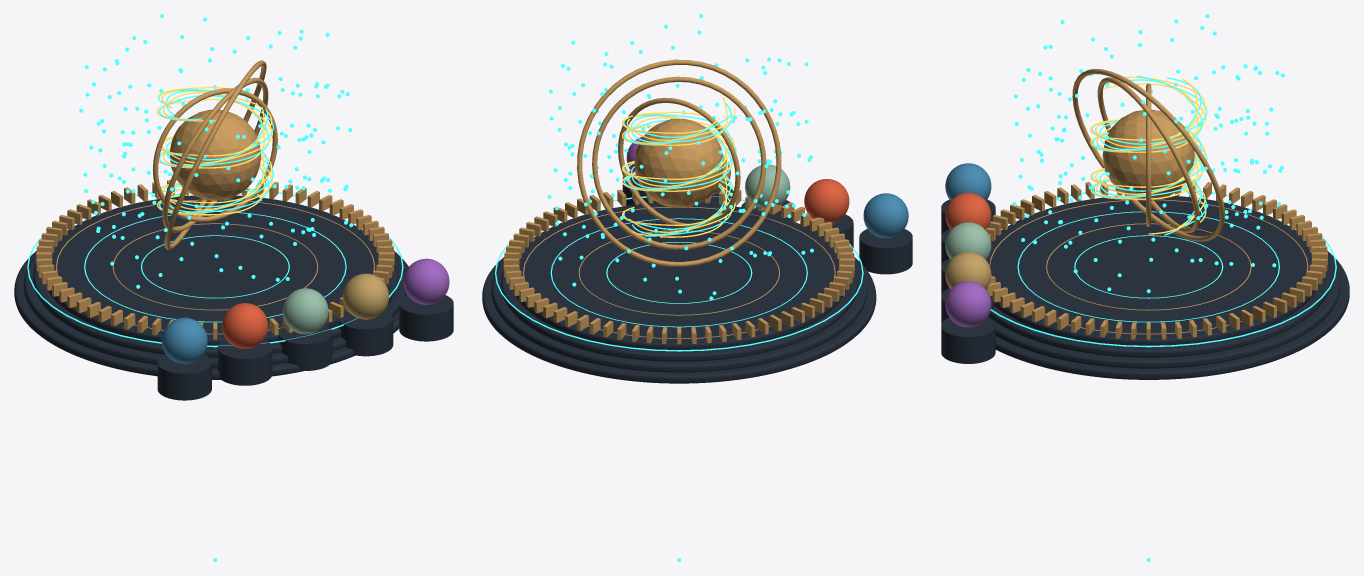
The model's file is asterion.draco.glb.
3 renders of one model, left to right at view 1: azimuth 30°, elevation 25°; view 2: azimuth 150°, elevation 25°; view 3: azimuth 270°, elevation 25°, orthographic. The views are drawn at different scales.
Visible parts, largest first — view 1: Concentric_foundation_3, Heart___faceted_iridium, Concentric_foundation_0, Concentric_foundation_1, Concentric_foundation_2, Specimen_plinth_0, Specimen_plinth_4, Specimen_plinth_1, Specimen_plinth_3, Gimbal_0, Specimen_plinth_2, Gimbal_2 (+16 smaller); view 2: Concentric_foundation_3, Concentric_foundation_0, Heart___faceted_iridium, Concentric_foundation_1, Concentric_foundation_2, Gimbal_2, Gimbal_1, Specimen_plinth_0, Gimbal_0, BRDF_specimen_0, BRDF_specimen_1, BRDF_specimen_2 (+11 smaller); view 3: Concentric_foundation_3, Concentric_foundation_0, Heart___faceted_iridium, Concentric_foundation_1, Concentric_foundation_2, Gimbal_2, Specimen_plinth_4, BRDF_specimen_4, Gimbal_1, BRDF_specimen_0, BRDF_specimen_2, BRDF_specimen_3 (+14 smaller).
Part boxes in pixels (box(x1,y1,x2,y2)): Concentric_foundation_3: box(45, 195, 378, 345); Heart___faceted_iridium: box(170, 109, 261, 200); Concentric_foundation_0: box(14, 251, 408, 379); Concentric_foundation_1: box(23, 254, 406, 368); Concentric_foundation_2: box(33, 229, 397, 357); Specimen_plinth_0: box(157, 354, 211, 400); Specimen_plinth_4: box(399, 295, 453, 341); Specimen_plinth_1: box(218, 339, 272, 385); Specimen_plinth_3: box(339, 310, 393, 356); Gimbal_0: box(153, 88, 277, 222); Specimen_plinth_2: box(278, 324, 332, 370); Gimbal_2: box(164, 60, 266, 249); Concentric_foundation_3: box(512, 203, 845, 349); Concentric_foundation_0: box(482, 257, 876, 383); Heart___faceted_iridium: box(634, 118, 723, 207); Concentric_foundation_1: box(491, 261, 866, 372); Concentric_foundation_2: box(500, 236, 857, 361); Gimbal_2: box(577, 59, 781, 266); Gimbal_1: box(592, 76, 766, 249); Specimen_plinth_0: box(859, 229, 912, 274); Gimbal_0: box(618, 97, 740, 228); BRDF_specimen_0: box(863, 193, 908, 238); BRDF_specimen_1: box(804, 179, 849, 223); BRDF_specimen_2: box(745, 164, 790, 209); Concentric_foundation_3: box(987, 195, 1318, 345); Concentric_foundation_0: box(995, 251, 1349, 379); Heart___faceted_iridium: box(1102, 109, 1194, 200); Concentric_foundation_1: box(989, 254, 1340, 368); Concentric_foundation_2: box(989, 229, 1330, 357); Gimbal_2: box(1072, 69, 1224, 241); Specimen_plinth_4: box(941, 317, 995, 363); BRDF_specimen_4: box(945, 281, 991, 327); Gimbal_1: box(1097, 77, 1199, 232); BRDF_specimen_0: box(945, 163, 991, 200); BRDF_specimen_2: box(945, 222, 991, 259); BRDF_specimen_3: box(945, 251, 991, 289).
Size of what is drawn, in the model's own units: 6.8 by 9.39 by 6.91.
